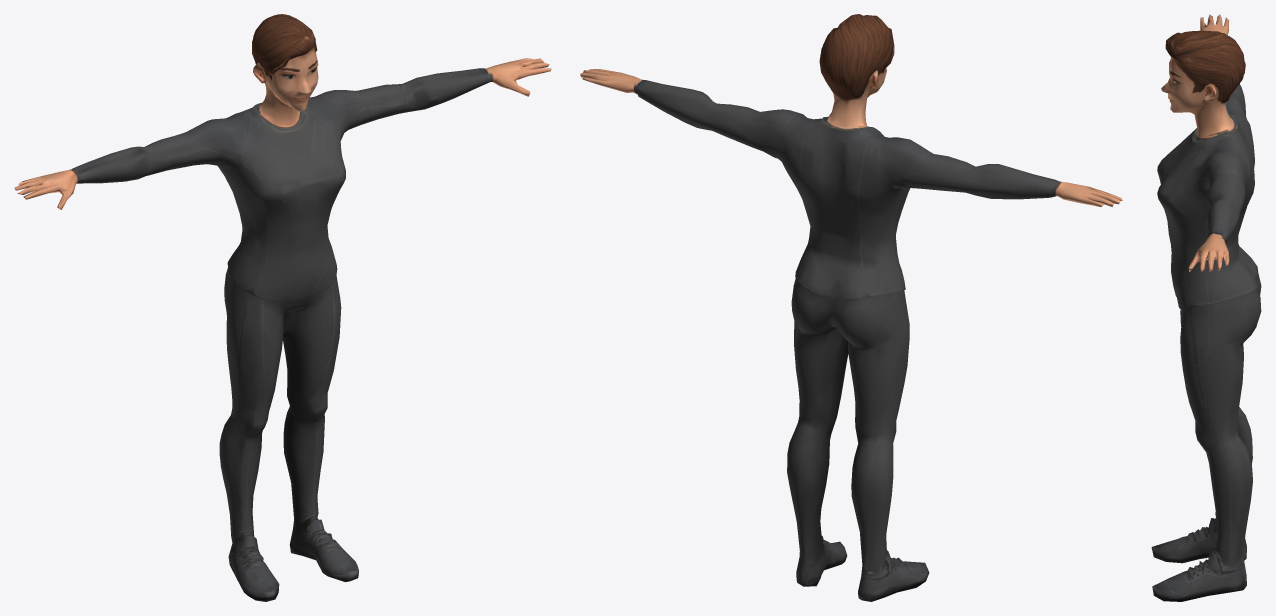
File: human.glb
3 renders of one model, left to right at view 1: azimuth 30°, elevation 25°; view 2: azimuth 150°, elevation 25°; view 3: azimuth 270°, elevation 25°, orthographic. The views are drawn at different scales.
Visible parts, largest first — view 1: tripo_node_a1d6c061-4a02-4dd4-9231-b31cf049194f; view 2: tripo_node_a1d6c061-4a02-4dd4-9231-b31cf049194f; view 3: tripo_node_a1d6c061-4a02-4dd4-9231-b31cf049194f.
Part boxes in pixels (x1,y1,x2,y2): tripo_node_a1d6c061-4a02-4dd4-9231-b31cf049194f: [14, 14, 551, 601]; tripo_node_a1d6c061-4a02-4dd4-9231-b31cf049194f: [580, 14, 1122, 601]; tripo_node_a1d6c061-4a02-4dd4-9231-b31cf049194f: [1151, 14, 1261, 601].
Size of the model in its own units: 0.9999 by 0.9997 by 0.1827.
Materials: 1 (1 with a texture image).
